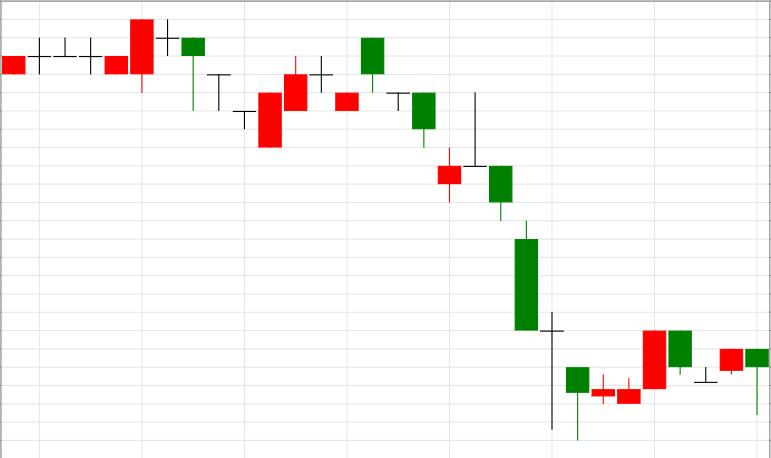hammer_rise: (464, 91, 589, 441)
